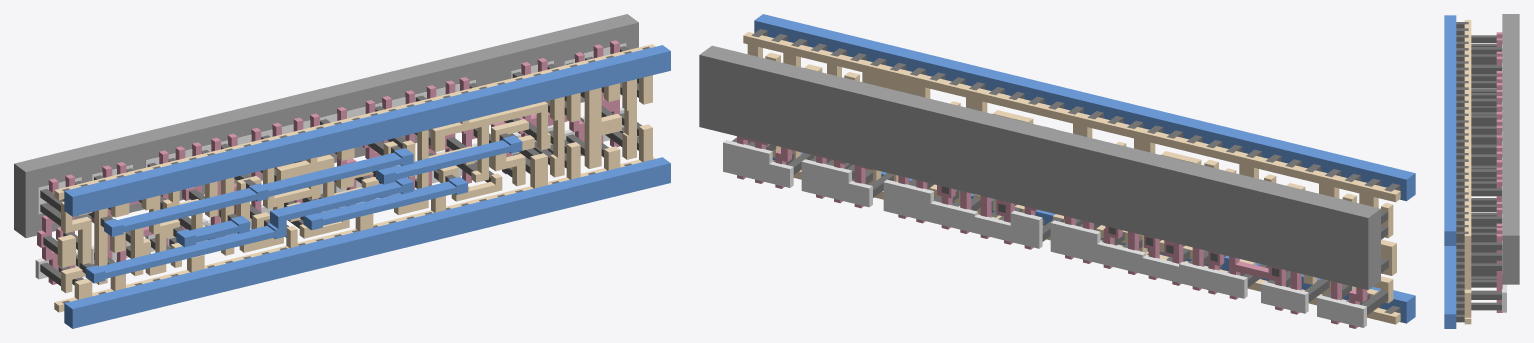
The model's file is sky130_fd_sc_hd__sdfbbn_2.gds.gltf.
3 views of the same model, side by side, from view 1: azimuth 30°, elevation 25°; view 2: azimuth 150°, elevation 25°; view 3: azimuth 270°, elevation 25° (orthographic). The views are drawn at different scales.
Visible parts, largest first — view 1: sky130_fd_sc_hd__sdfbbn_2_met1, sky130_fd_sc_hd__sdfbbn_2_li1, sky130_fd_sc_hd__sdfbbn_2_nwell, sky130_fd_sc_hd__sdfbbn_2_poly, sky130_fd_sc_hd__sdfbbn_2_licon, sky130_fd_sc_hd__sdfbbn_2_diff, sky130_fd_sc_hd__sdfbbn_2_mcon; view 2: sky130_fd_sc_hd__sdfbbn_2_nwell, sky130_fd_sc_hd__sdfbbn_2_diff, sky130_fd_sc_hd__sdfbbn_2_li1, sky130_fd_sc_hd__sdfbbn_2_met1, sky130_fd_sc_hd__sdfbbn_2_poly, sky130_fd_sc_hd__sdfbbn_2_licon, sky130_fd_sc_hd__sdfbbn_2_mcon; view 3: sky130_fd_sc_hd__sdfbbn_2_licon, sky130_fd_sc_hd__sdfbbn_2_nwell, sky130_fd_sc_hd__sdfbbn_2_met1, sky130_fd_sc_hd__sdfbbn_2_mcon, sky130_fd_sc_hd__sdfbbn_2_li1, sky130_fd_sc_hd__sdfbbn_2_poly, sky130_fd_sc_hd__sdfbbn_2_diff.
Boxes of the visible parts, x1,y1,x2,y2 form: sky130_fd_sc_hd__sdfbbn_2_met1: (64,45,670,328); sky130_fd_sc_hd__sdfbbn_2_li1: (54,44,655,312); sky130_fd_sc_hd__sdfbbn_2_nwell: (14,14,638,237); sky130_fd_sc_hd__sdfbbn_2_poly: (37,40,619,284); sky130_fd_sc_hd__sdfbbn_2_licon: (40,46,641,285); sky130_fd_sc_hd__sdfbbn_2_diff: (35,43,626,279); sky130_fd_sc_hd__sdfbbn_2_mcon: (62,46,649,303); sky130_fd_sc_hd__sdfbbn_2_nwell: (699,45,1380,289); sky130_fd_sc_hd__sdfbbn_2_diff: (723,140,1366,327); sky130_fd_sc_hd__sdfbbn_2_li1: (743,32,1400,324); sky130_fd_sc_hd__sdfbbn_2_met1: (754,14,1415,323); sky130_fd_sc_hd__sdfbbn_2_poly: (737,136,1367,328); sky130_fd_sc_hd__sdfbbn_2_licon: (732,54,1388,314); sky130_fd_sc_hd__sdfbbn_2_mcon: (751,29,1400,313); sky130_fd_sc_hd__sdfbbn_2_licon: (1471,35,1501,310); sky130_fd_sc_hd__sdfbbn_2_nwell: (1502,14,1519,284); sky130_fd_sc_hd__sdfbbn_2_met1: (1444,15,1456,328); sky130_fd_sc_hd__sdfbbn_2_mcon: (1456,22,1468,322); sky130_fd_sc_hd__sdfbbn_2_li1: (1464,20,1471,324); sky130_fd_sc_hd__sdfbbn_2_poly: (1496,32,1502,312); sky130_fd_sc_hd__sdfbbn_2_diff: (1502,44,1506,312).
Bounding box in the file's own units: 15.56 × 3.2 × 2.24.
